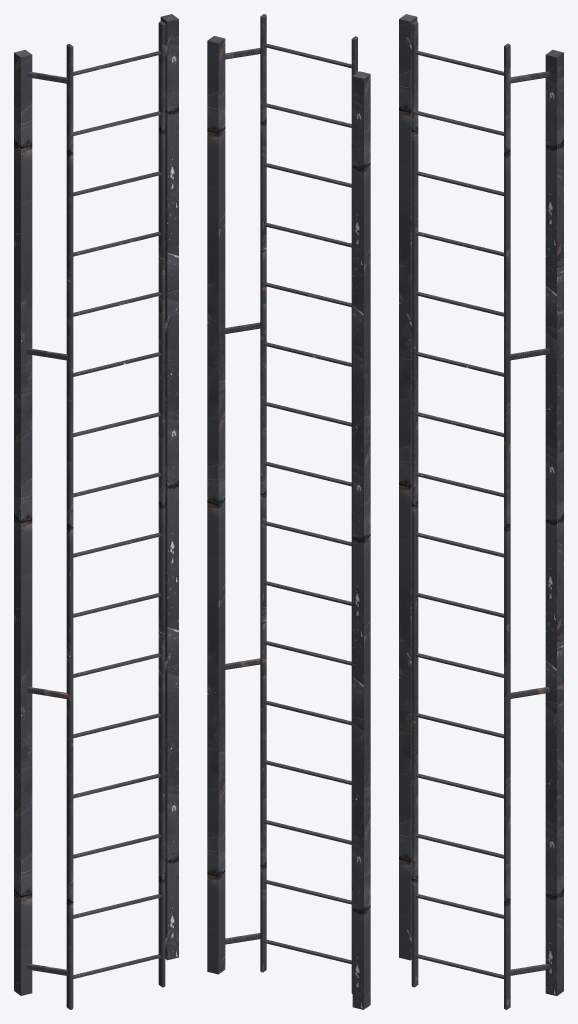
File: BUILDING_exteriorStairwellLadder_01.FBX
3 renders of one model, left to right at view 1: azimuth 30°, elevation 25°; view 2: azimuth 150°, elevation 25°; view 3: azimuth 330°, elevation 25°, orthographic.
Parts seen in each view (by area): view 1: BUILDING_exteriorStairwellLadder_01; view 2: BUILDING_exteriorStairwellLadder_01; view 3: BUILDING_exteriorStairwellLadder_01.
Boxes of the visible parts, x1=… form: BUILDING_exteriorStairwellLadder_01: x1=14, y1=14, x2=178, y2=1009; BUILDING_exteriorStairwellLadder_01: x1=207, y1=14, x2=370, y2=1009; BUILDING_exteriorStairwellLadder_01: x1=399, y1=14, x2=563, y2=1009.
Size of the model in its own units: 88.23 by 515 by 24.43.
1 material, 1 textured.
